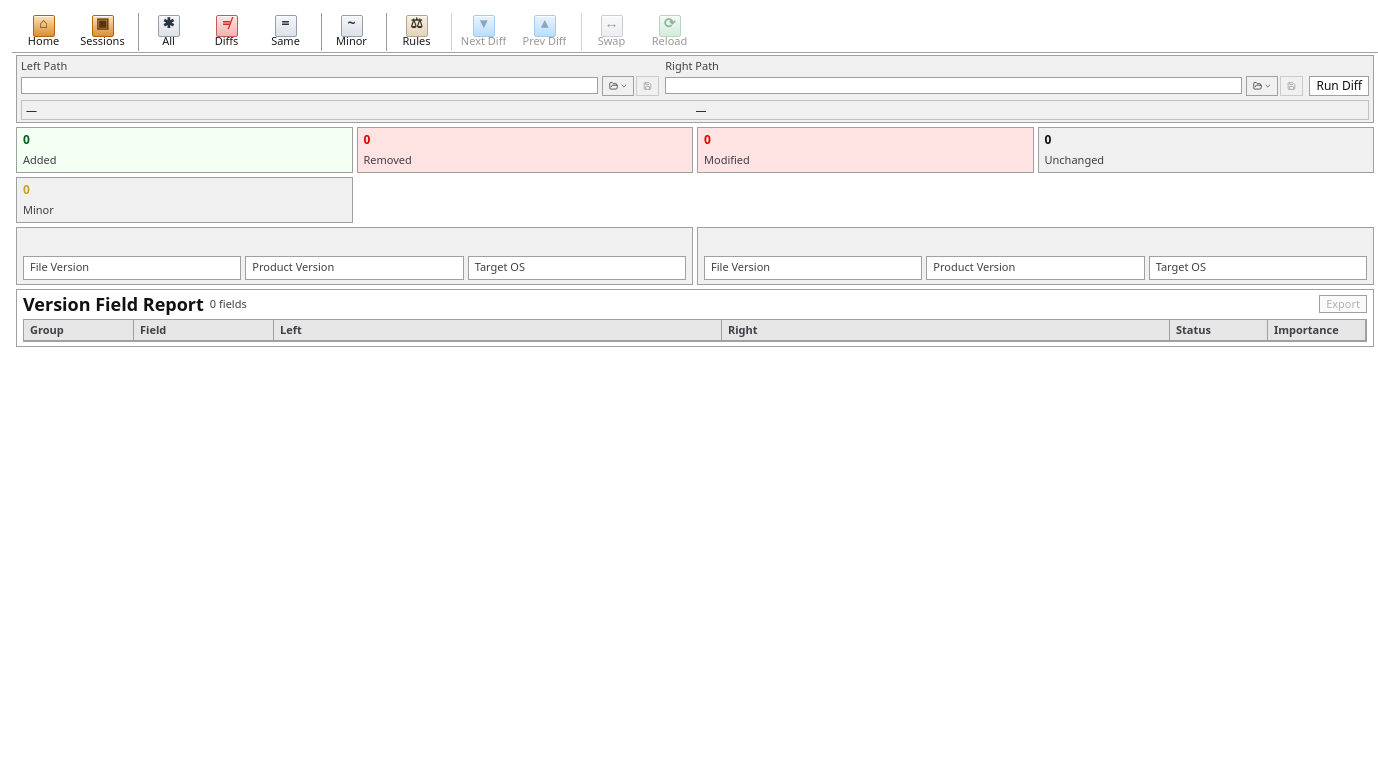
Test: opens rules catalog before compare
This screenshot has width=1378, height=780.
Click the button with test id "version-session-toolbar-rules".
click(416, 32)  # box 386,13 -> 445,50
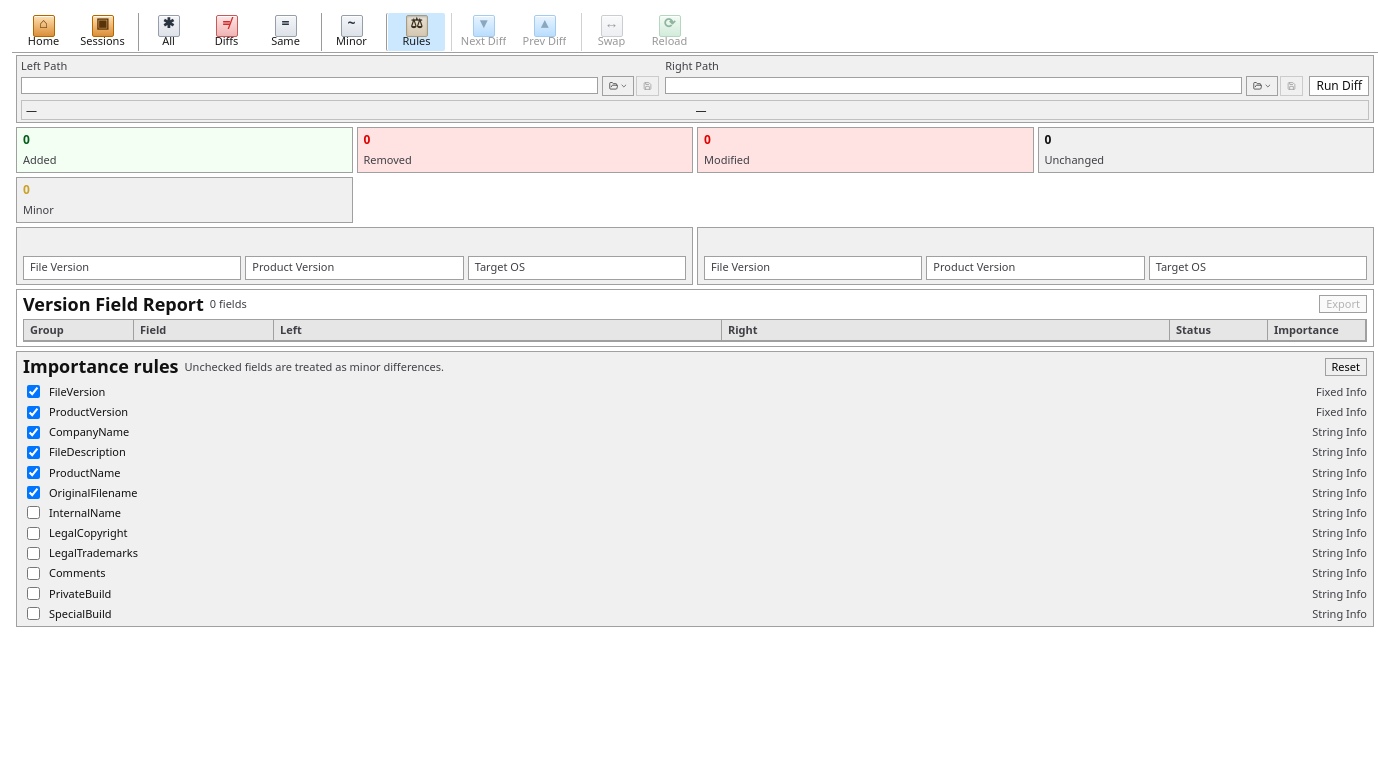
Expected: the element with test id "version-rules-panel" is shown, 16,352 -> 1374,628
Expected: the text "FileVersion Fixed Info" is shown, 23,382 -> 1367,401
Expected: the text "Comments String Info" is shown, 23,564 -> 1367,582
